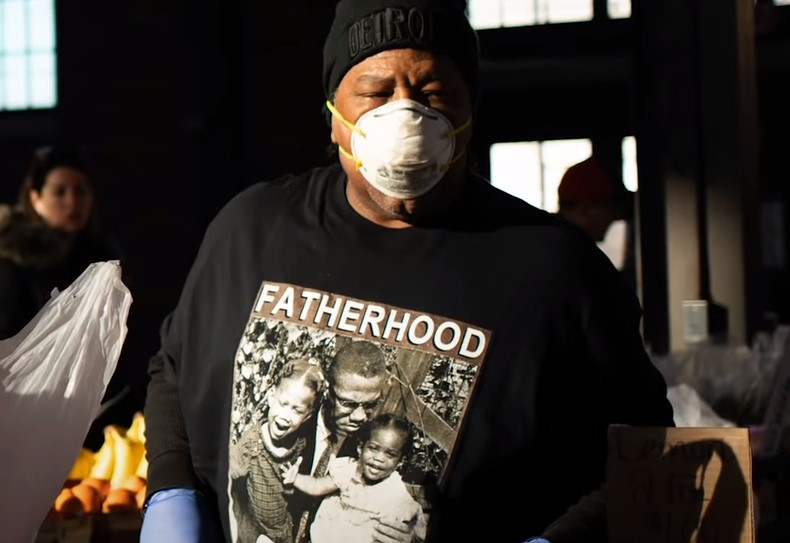face_no_mask: (30, 152, 95, 233)
face_with_mask: (320, 8, 483, 213)
